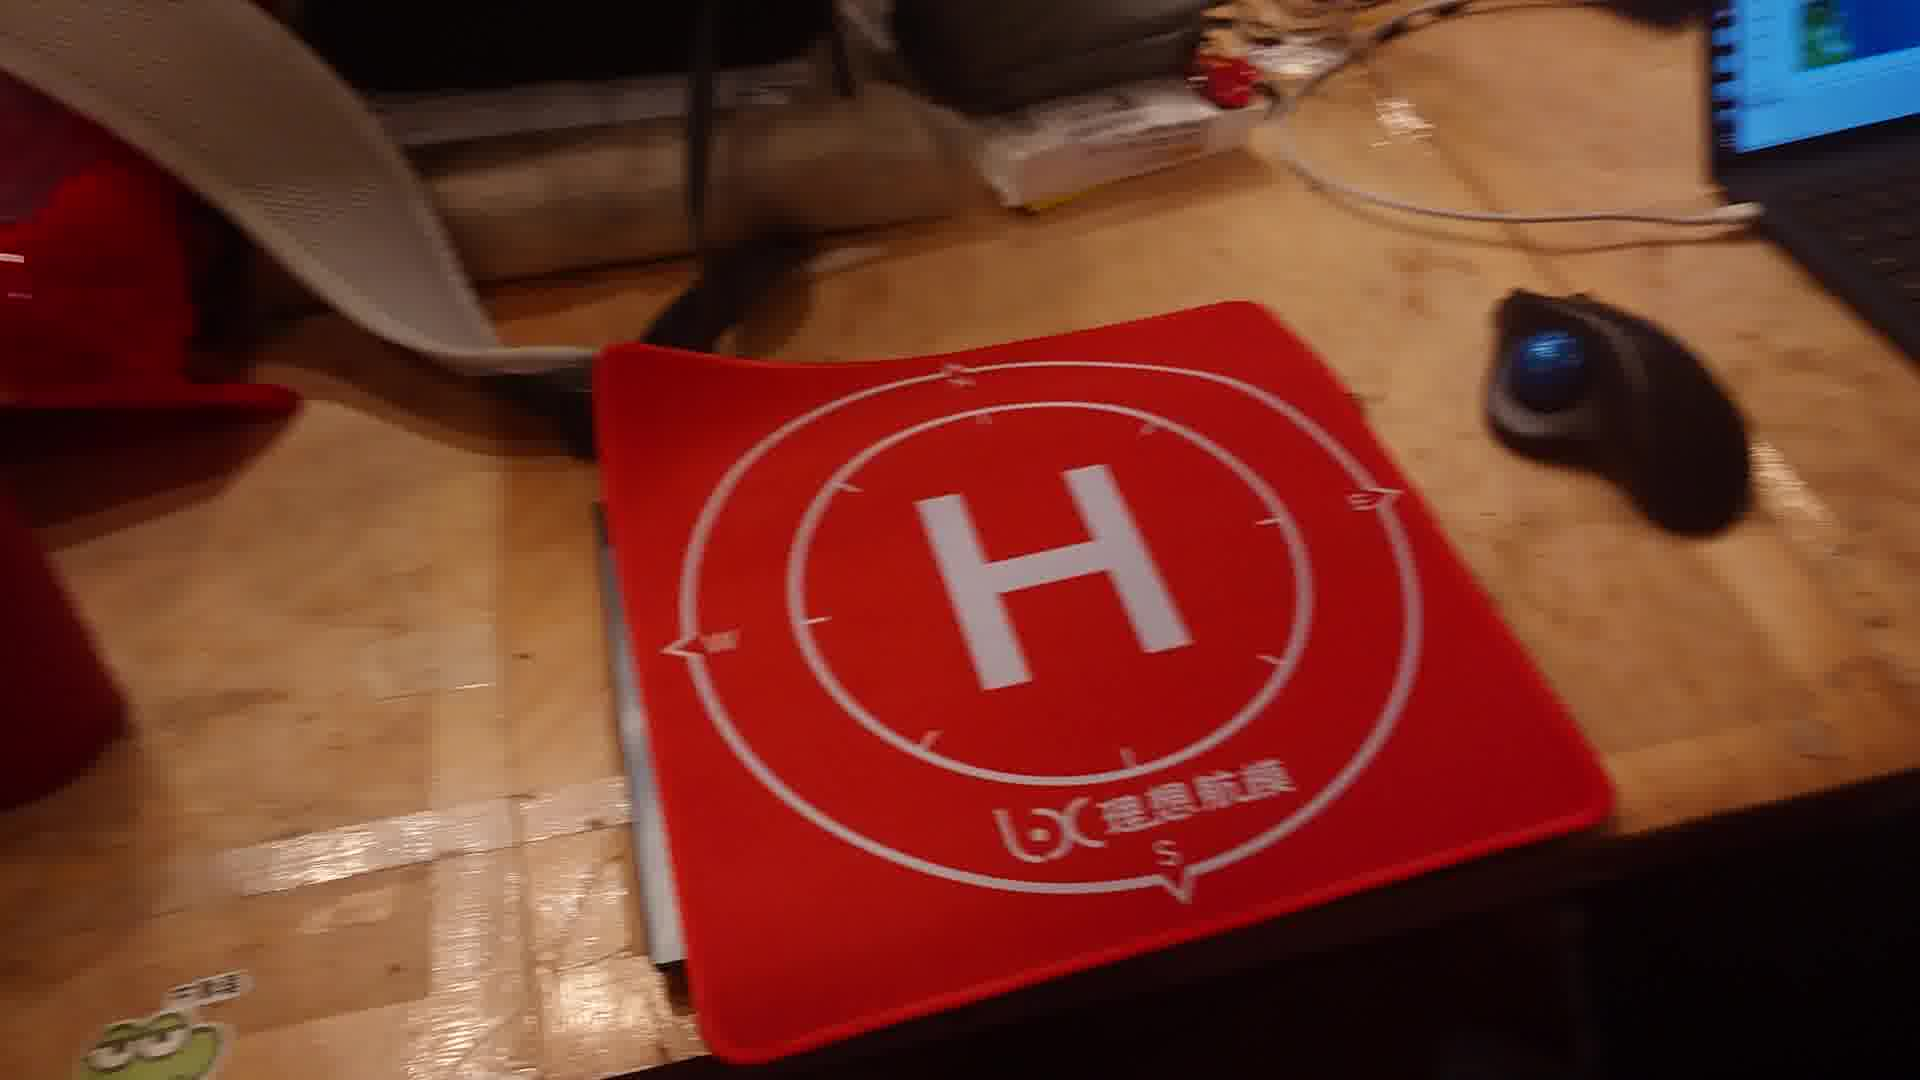H: (913, 462, 1196, 690)
